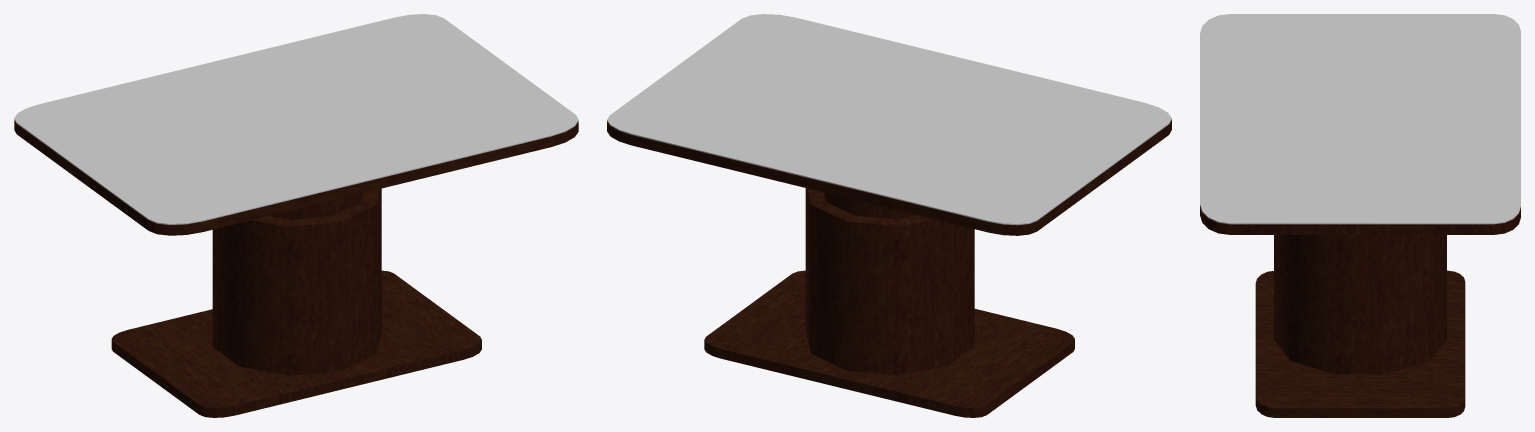
File: Table02.fbx
3 renders of one model, left to right at view 1: azimuth 30°, elevation 25°; view 2: azimuth 150°, elevation 25°; view 3: azimuth 270°, elevation 25°, orthographic.
Parts seen in each view (by area): view 1: TableCoffeeEast; view 2: TableCoffeeEast; view 3: TableCoffeeEast.
Boxes of the visible parts, x1,y1,x2,y2 form: TableCoffeeEast: (14, 14, 578, 417); TableCoffeeEast: (607, 14, 1171, 417); TableCoffeeEast: (1200, 14, 1520, 417).
Bounding box in the file's own units: 0.888 × 0.4567 × 0.5757.
